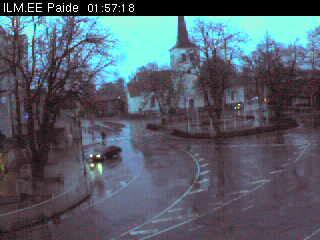car: (89, 144, 123, 164), (234, 102, 243, 111)
person: (100, 129, 107, 144)
